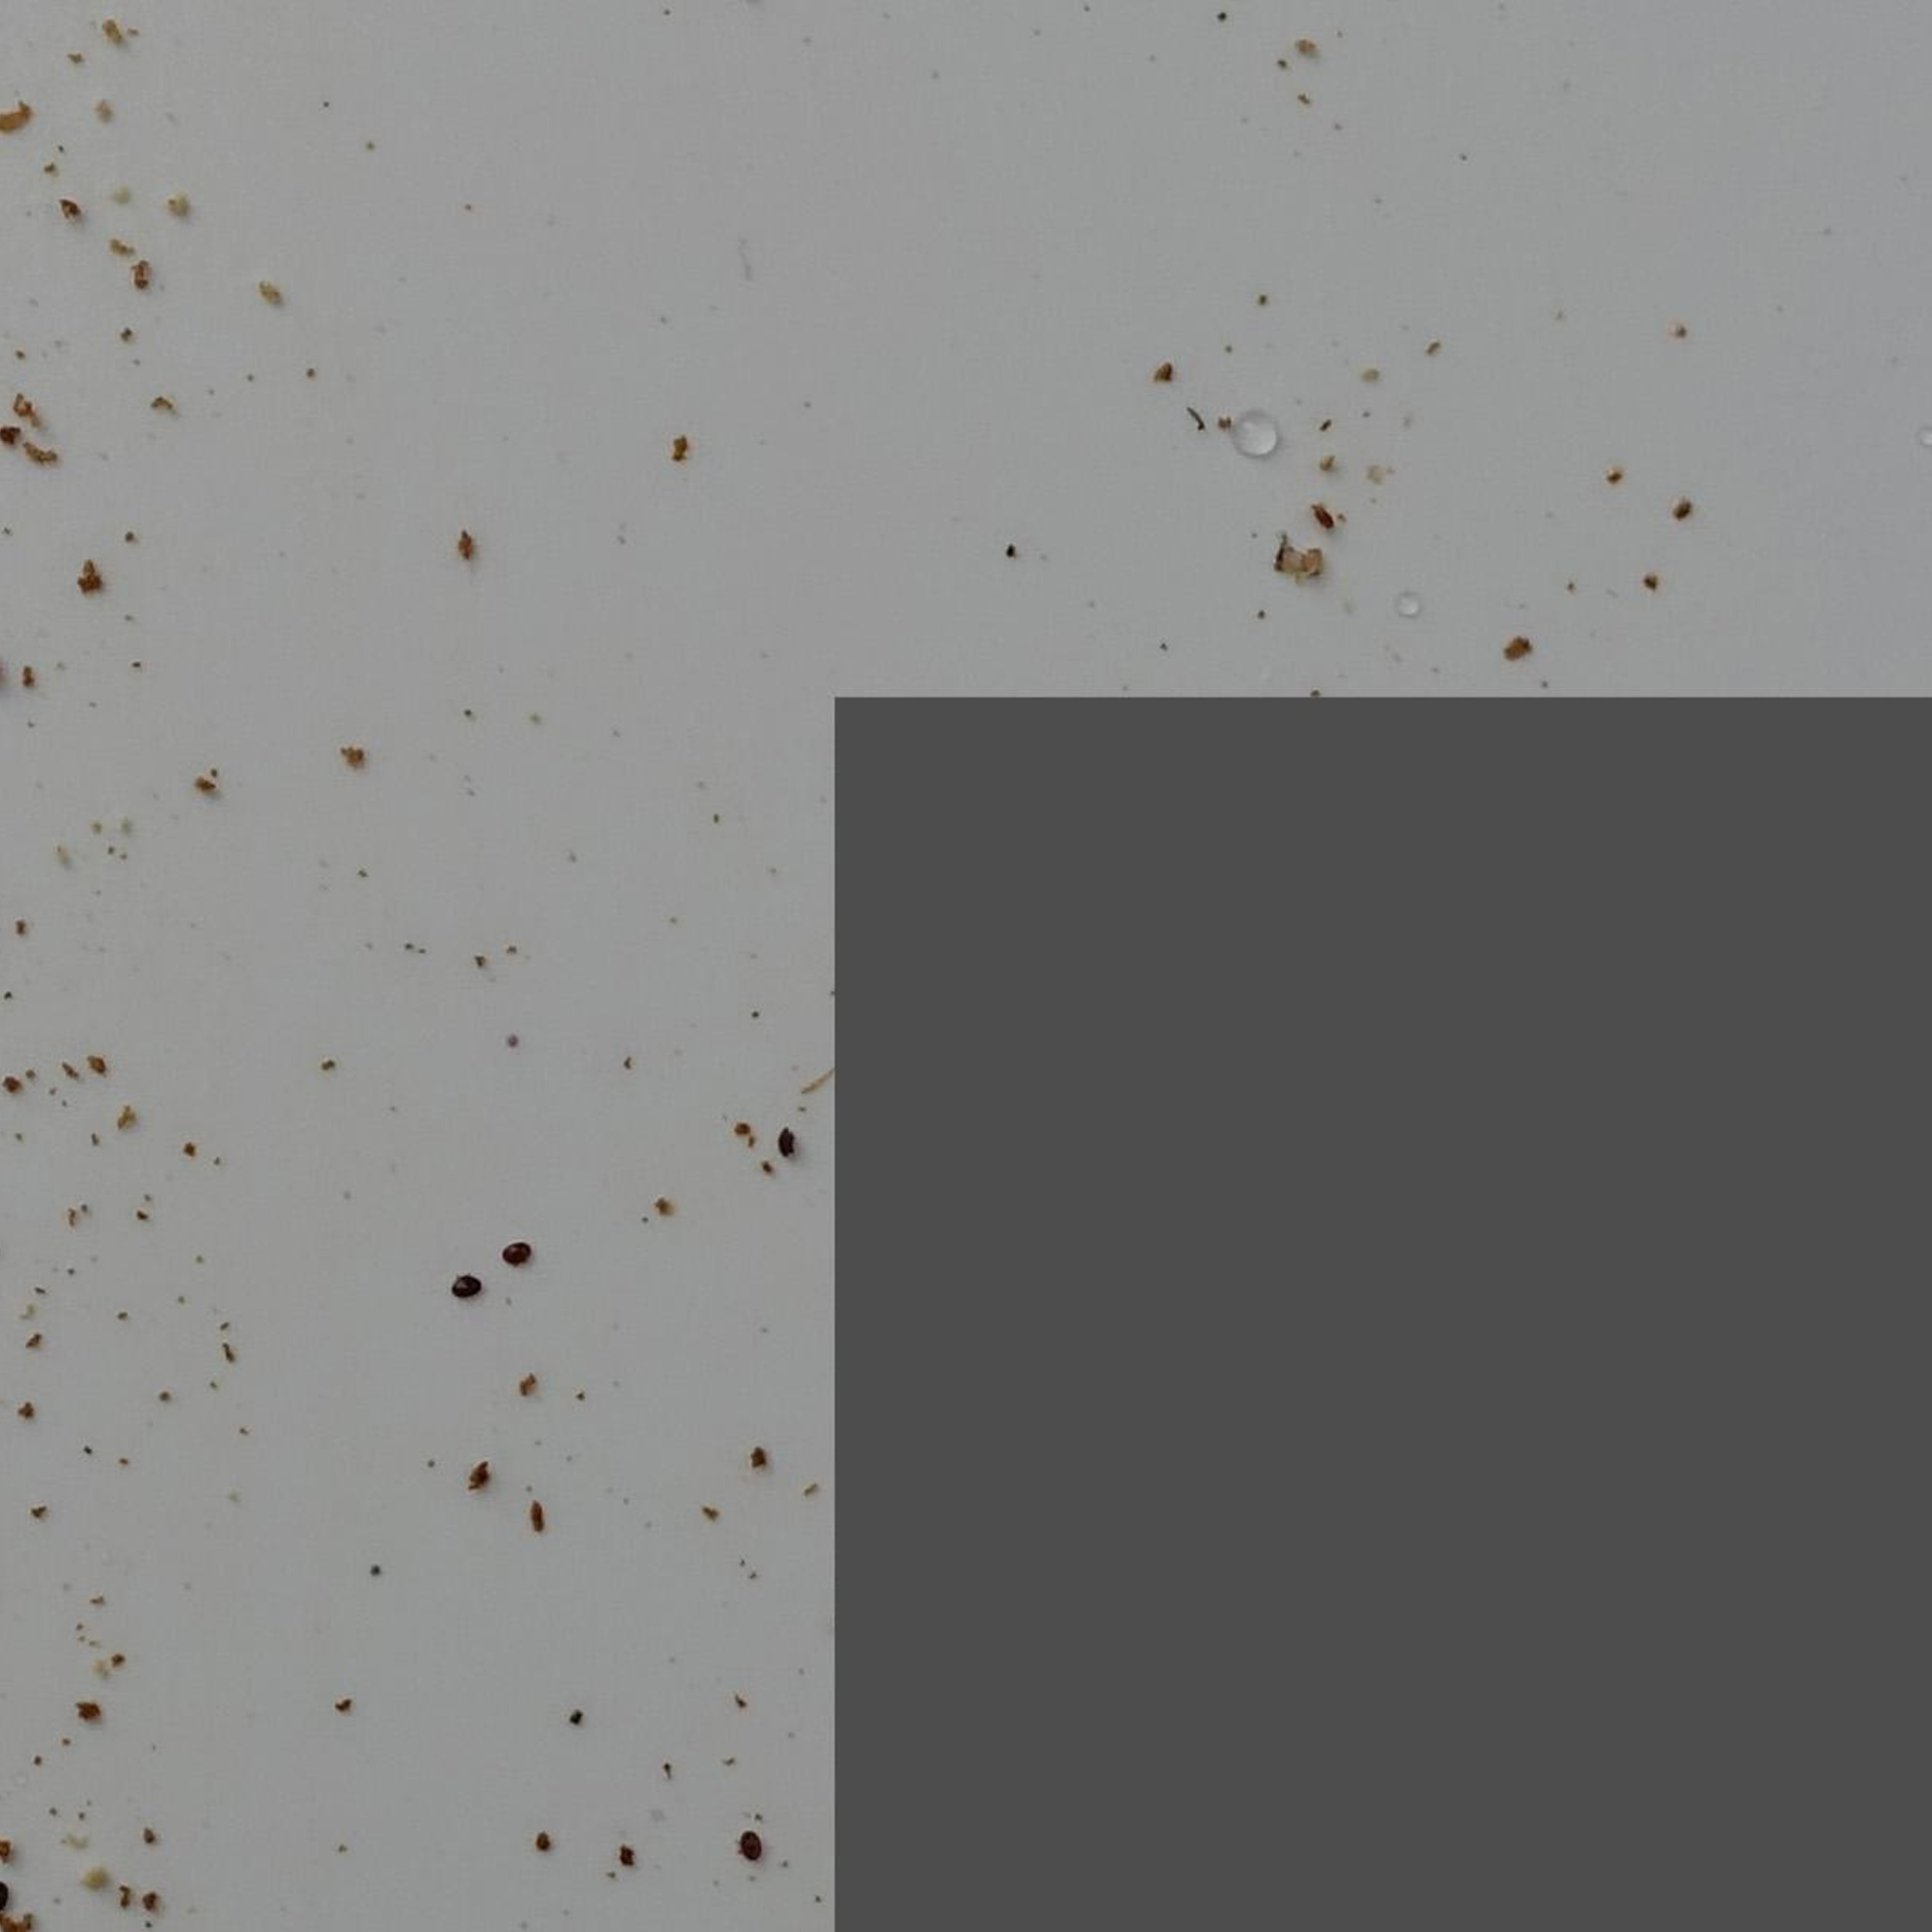Varroa: (501, 1237, 529, 1267), (456, 1269, 483, 1295), (740, 1838, 764, 1867), (773, 1132, 798, 1159)
